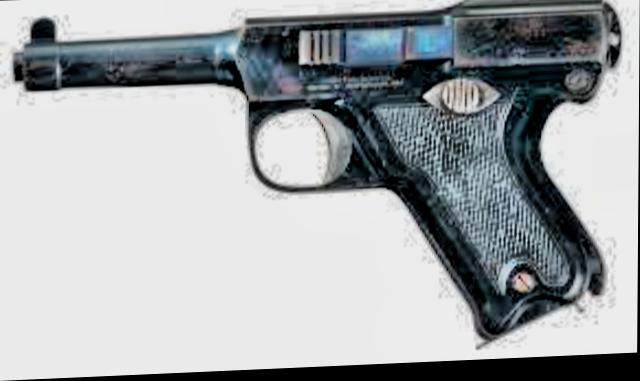pistol: (7, 0, 624, 348)
